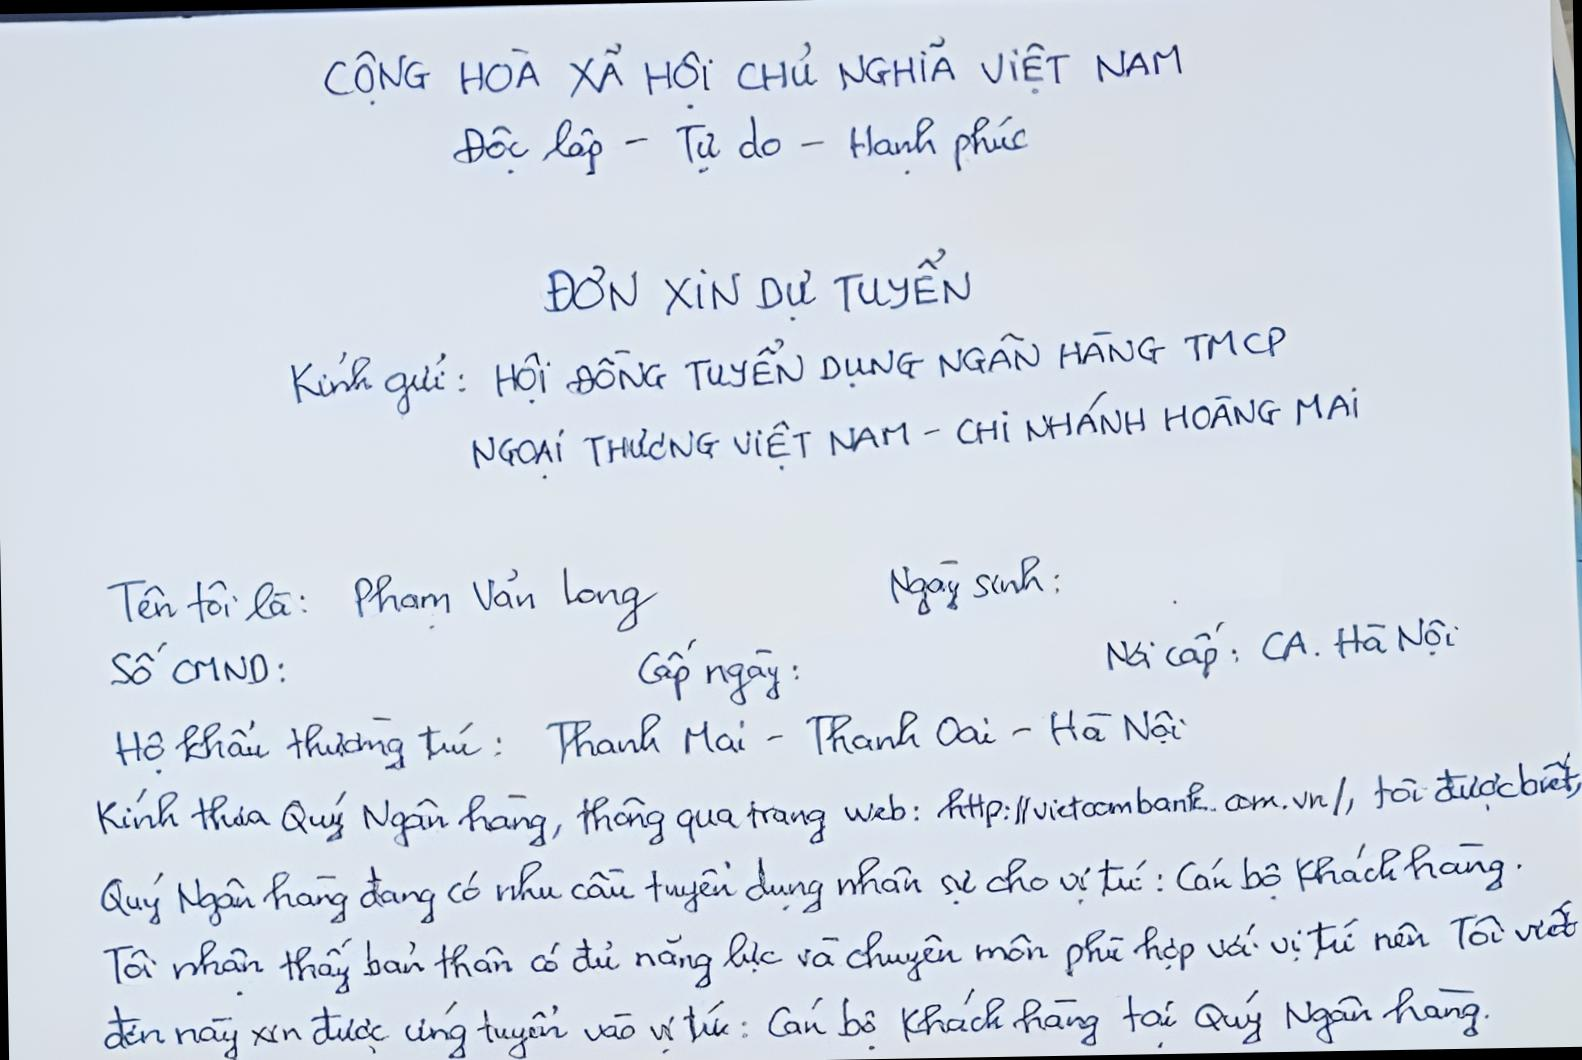text: (89, 746, 1582, 861), (96, 893, 1582, 1004), (92, 834, 1526, 931), (96, 975, 1493, 1060), (282, 319, 1291, 424), (465, 379, 1368, 491), (104, 696, 1194, 782), (316, 27, 1190, 114), (102, 556, 666, 649), (446, 105, 1038, 192), (537, 243, 976, 334), (1100, 609, 1466, 689), (633, 629, 805, 713), (883, 548, 1065, 625), (103, 634, 291, 694)
